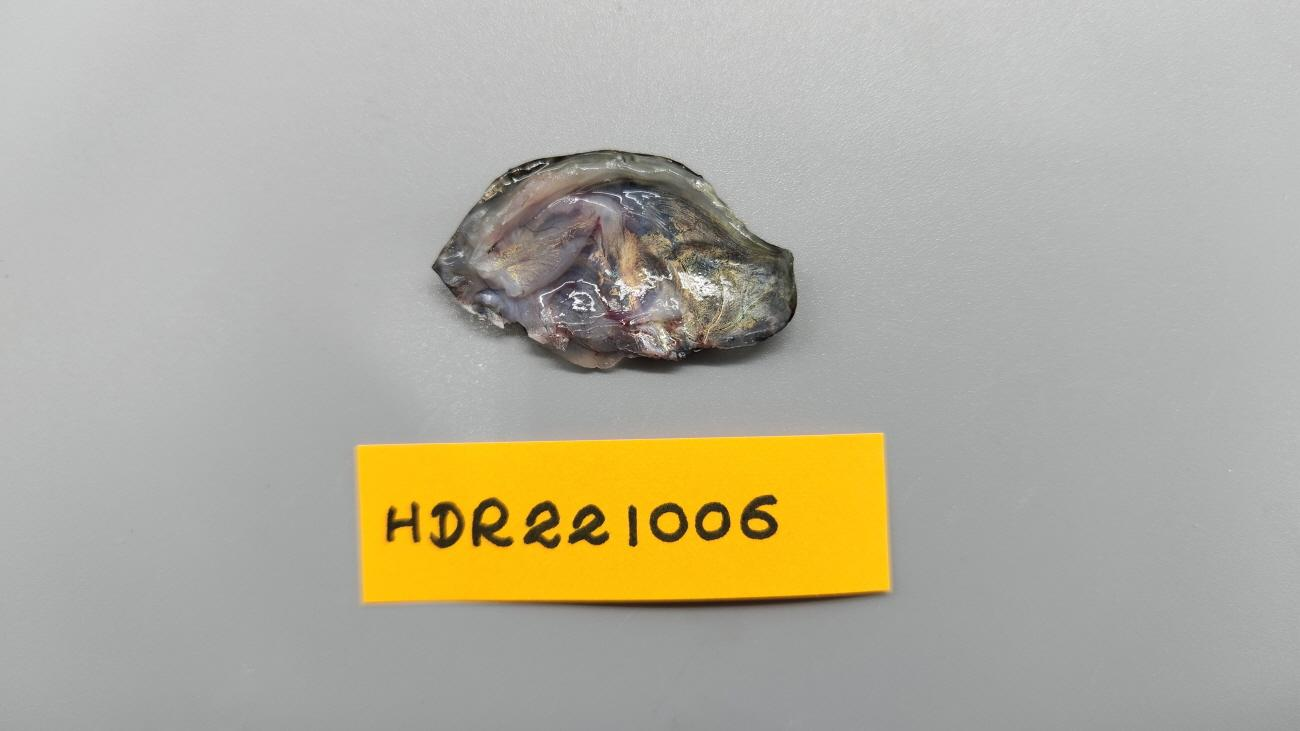POGCN: (432, 150, 797, 371)
